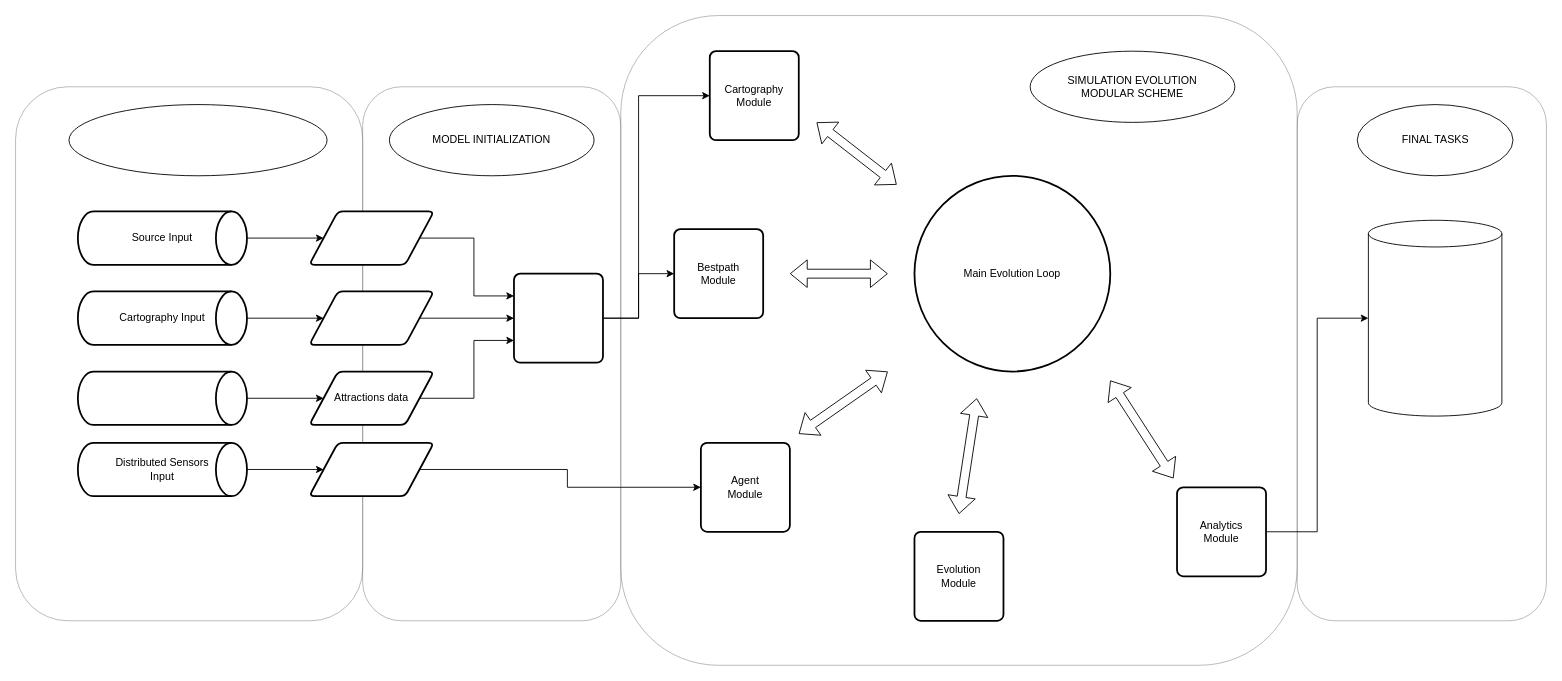
Some shapes in this 1562 by 681 pixel diagram are drawn without their labels. The centre of each missing label's shape, as x and y in pixels:
"Attractions Input" belongs at (162,397).
"Network data" belongs at (371,317).
"Output" belongs at (1434,317).
"PREPROCESSING" belongs at (197,140).
"Sensors data" belongs at (371,469).
"Source data" belongs at (371,237).
"Virtual Agenda Module" belongs at (558,317).
